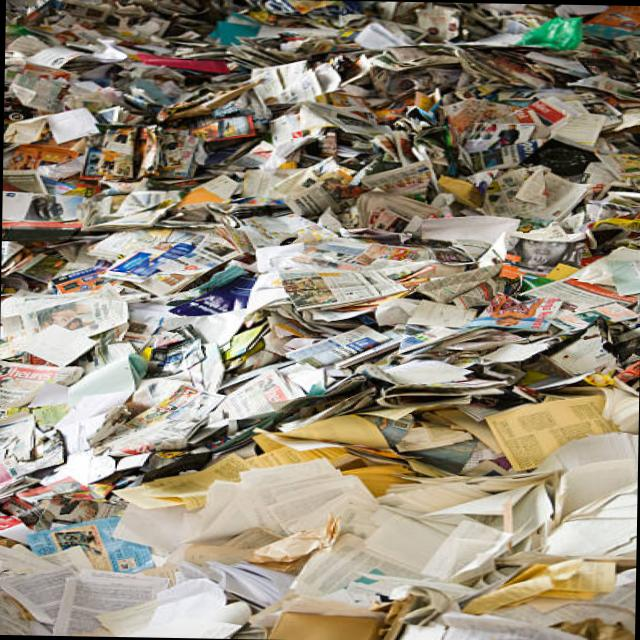electronic: (482, 390, 616, 473), (45, 105, 100, 144)
